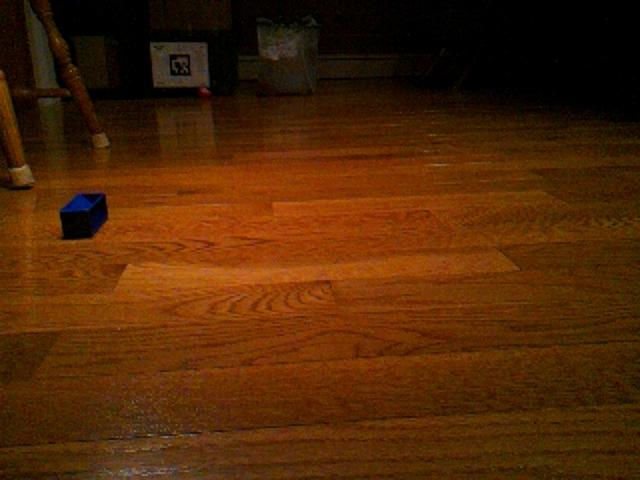blue: (58, 190, 110, 241)
